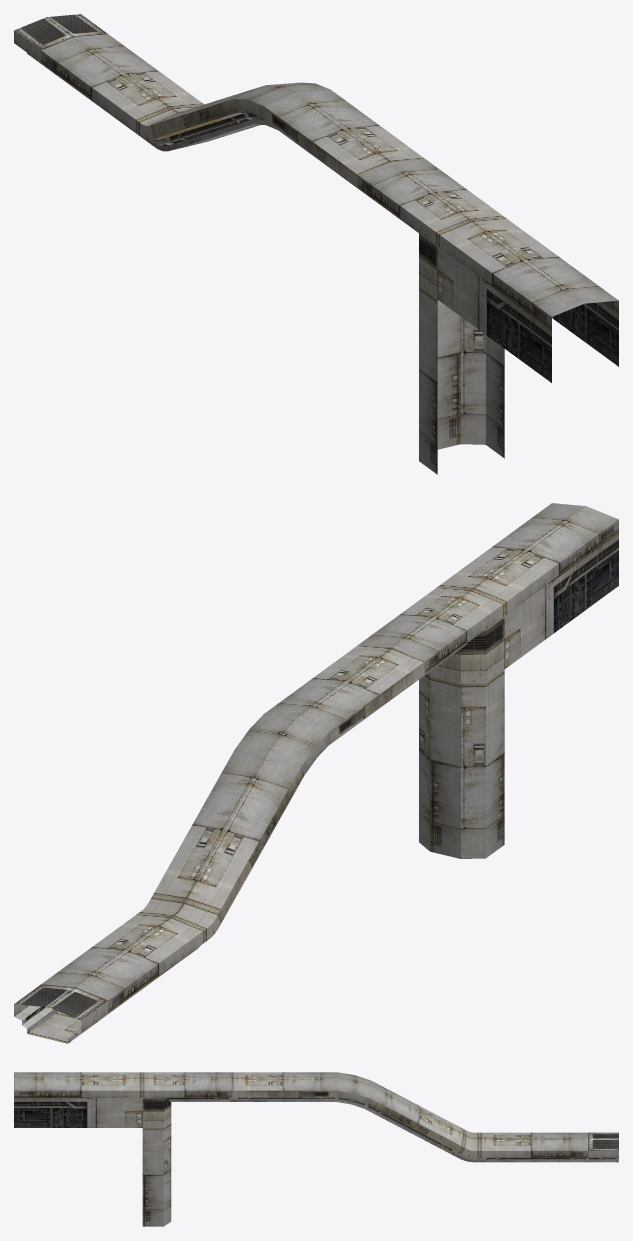
Rendered from STR_RoofGirder_A.FBX.
3 views of the same model, one above another, from view 1: azimuth 30°, elevation 25°; view 2: azimuth 150°, elevation 25°; view 3: azimuth 270°, elevation 25° (orthographic). The views are drawn at different scales.
Visible parts, largest first — view 1: STR_RoofGirder_A; view 2: STR_RoofGirder_A; view 3: STR_RoofGirder_A.
Boxes of the visible parts, bbox=[...] form: STR_RoofGirder_A: bbox=[14, 14, 618, 474]; STR_RoofGirder_A: bbox=[14, 503, 618, 1043]; STR_RoofGirder_A: bbox=[14, 1072, 618, 1226].
Bounding box in the file's own units: 200 × 705 × 2784.
Materials: 1 (1 with a texture image).
